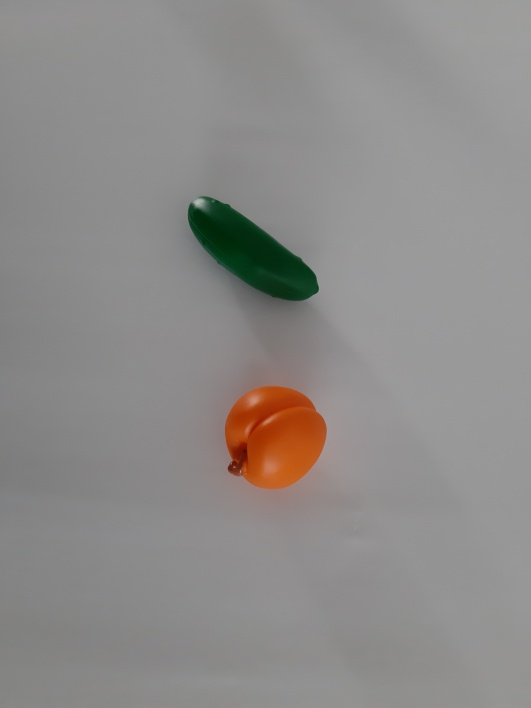apricot: (201, 369, 345, 517)
cucumber: (175, 180, 337, 322)
